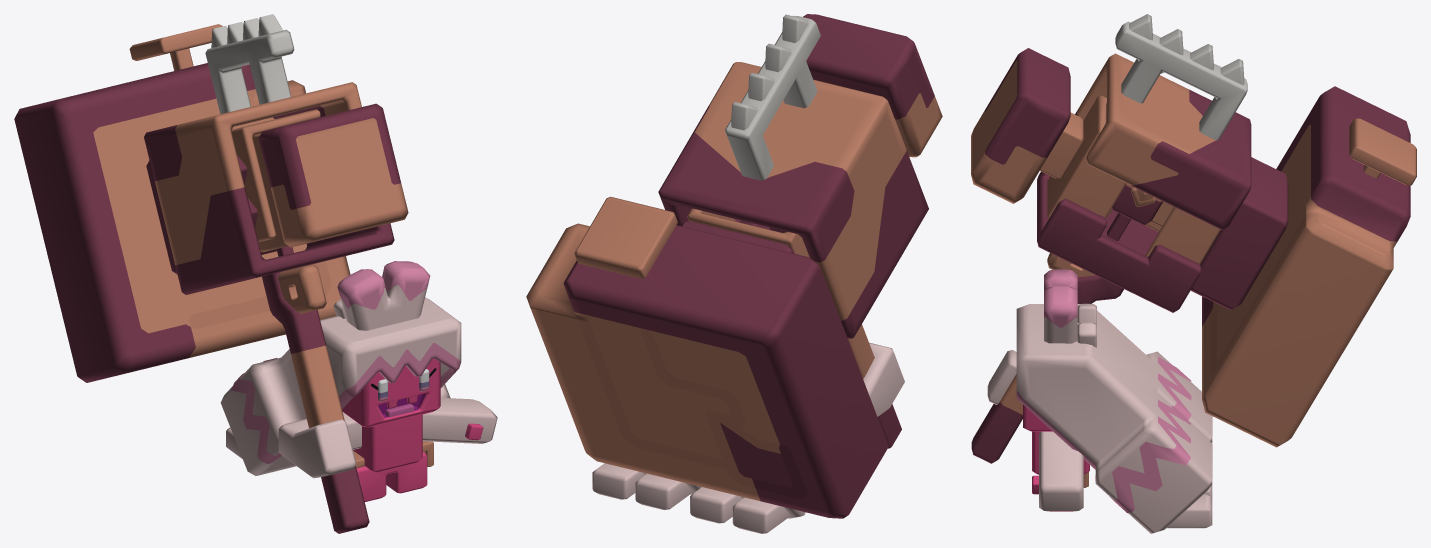
3 views of the same model, side by side, from view 1: azimuth 30°, elevation 25°; view 2: azimuth 150°, elevation 25°; view 3: azimuth 270°, elevation 25° (orthographic). The views are drawn at different scales.
Visible parts, largest first — view 1: model; view 2: model; view 3: model.
Boxes of the visible parts, x1,y1,x2,y2 form: model: [14, 14, 497, 533]; model: [526, 14, 942, 533]; model: [971, 14, 1416, 533].
Bounding box in the file's own units: 2.34 × 3.45 × 3.13.
